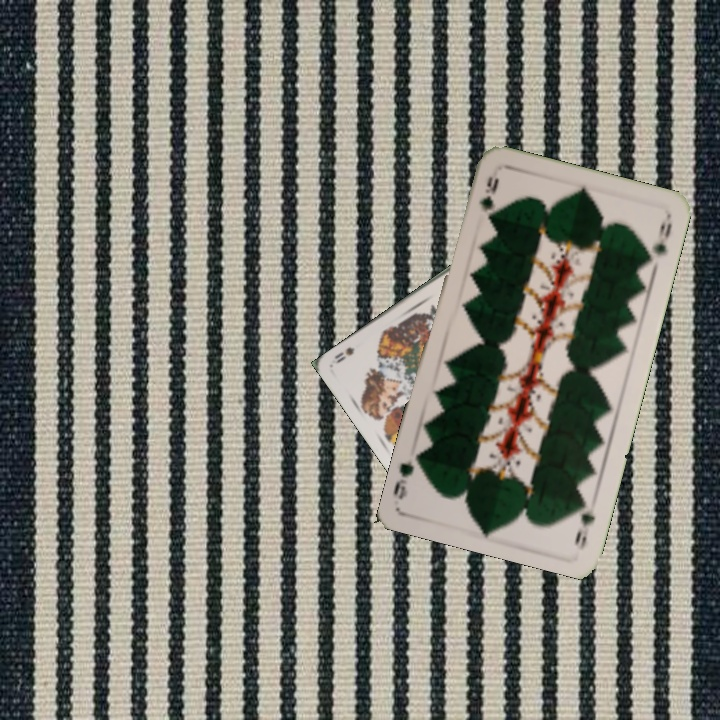G9: (570, 493, 598, 553), (474, 172, 500, 214)
